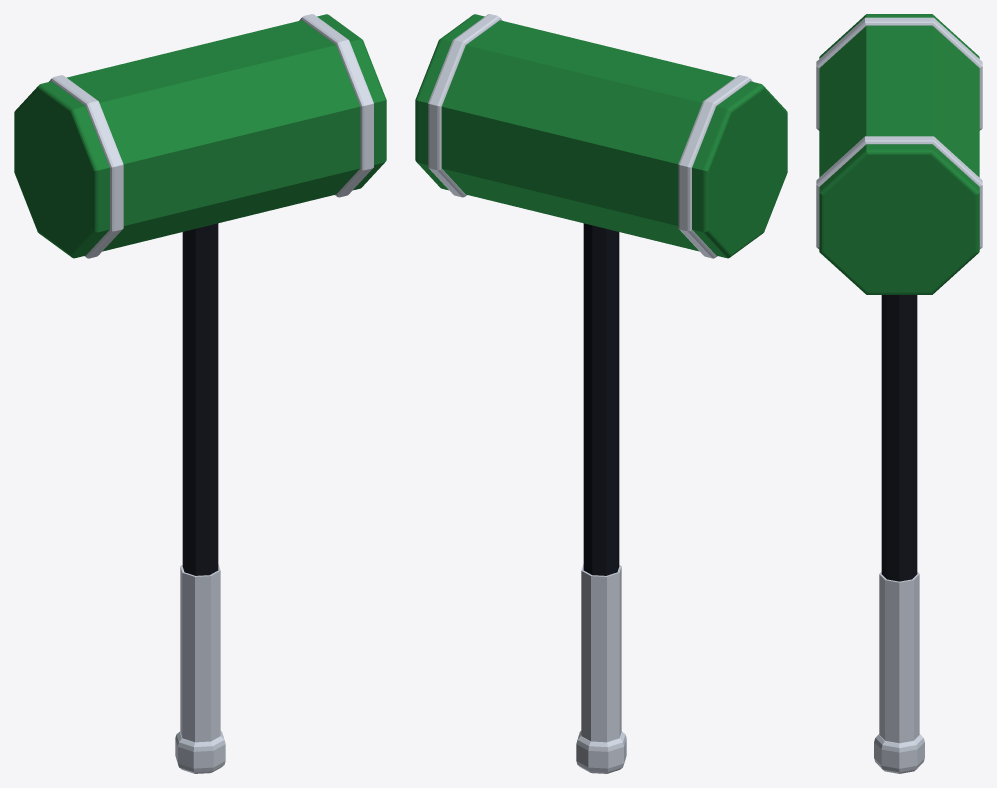
The model's file is hammer_aodaru.fbx.
3 views of the same model, side by side, from view 1: azimuth 30°, elevation 25°; view 2: azimuth 150°, elevation 25°; view 3: azimuth 270°, elevation 25° (orthographic). The views are drawn at different scales.
Parts seen in each view (by area): view 1: aodaru_hammer; view 2: aodaru_hammer; view 3: aodaru_hammer.
Boxes of the visible parts, left/top/right/bottom form: aodaru_hammer: left=14, top=14, right=386, bottom=773; aodaru_hammer: left=415, top=14, right=787, bottom=773; aodaru_hammer: left=816, top=14, right=982, bottom=773.
Bounding box in the file's own units: 1.1 × 2.54 × 0.558.
